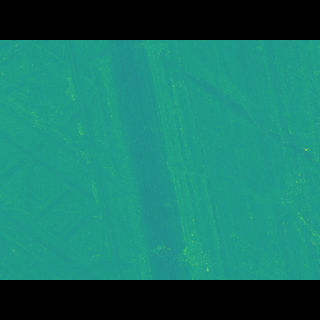Loch: (0, 68, 133, 251), (155, 69, 320, 197)
